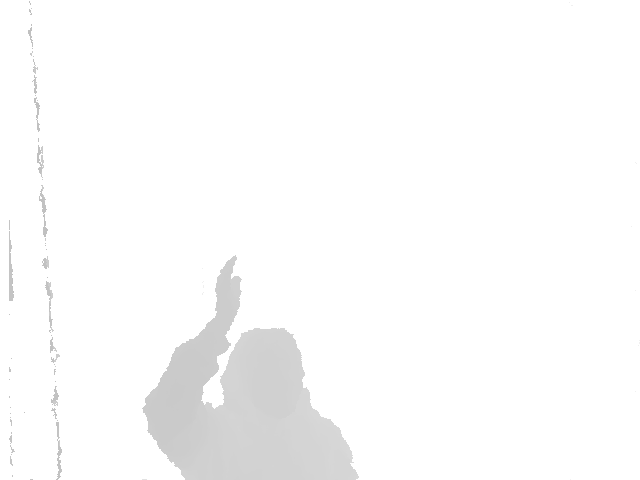hand: (213, 250, 246, 333)
head: (218, 327, 316, 412)
person: (143, 252, 357, 480)
